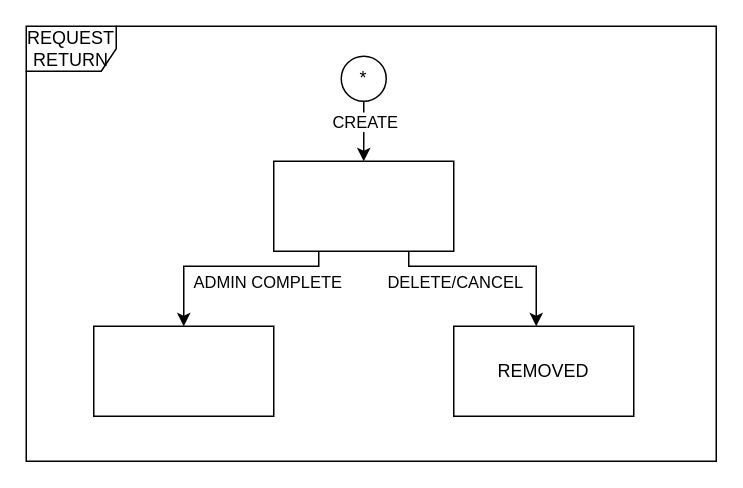
Some shapes in this 743 by 488 pixel diagram are drawn without their labels. Each missing label, with the centre of its shape:
"COMPLETED" goes at (183,370).
"WAITING FOR RETURNING" goes at (363,205).
